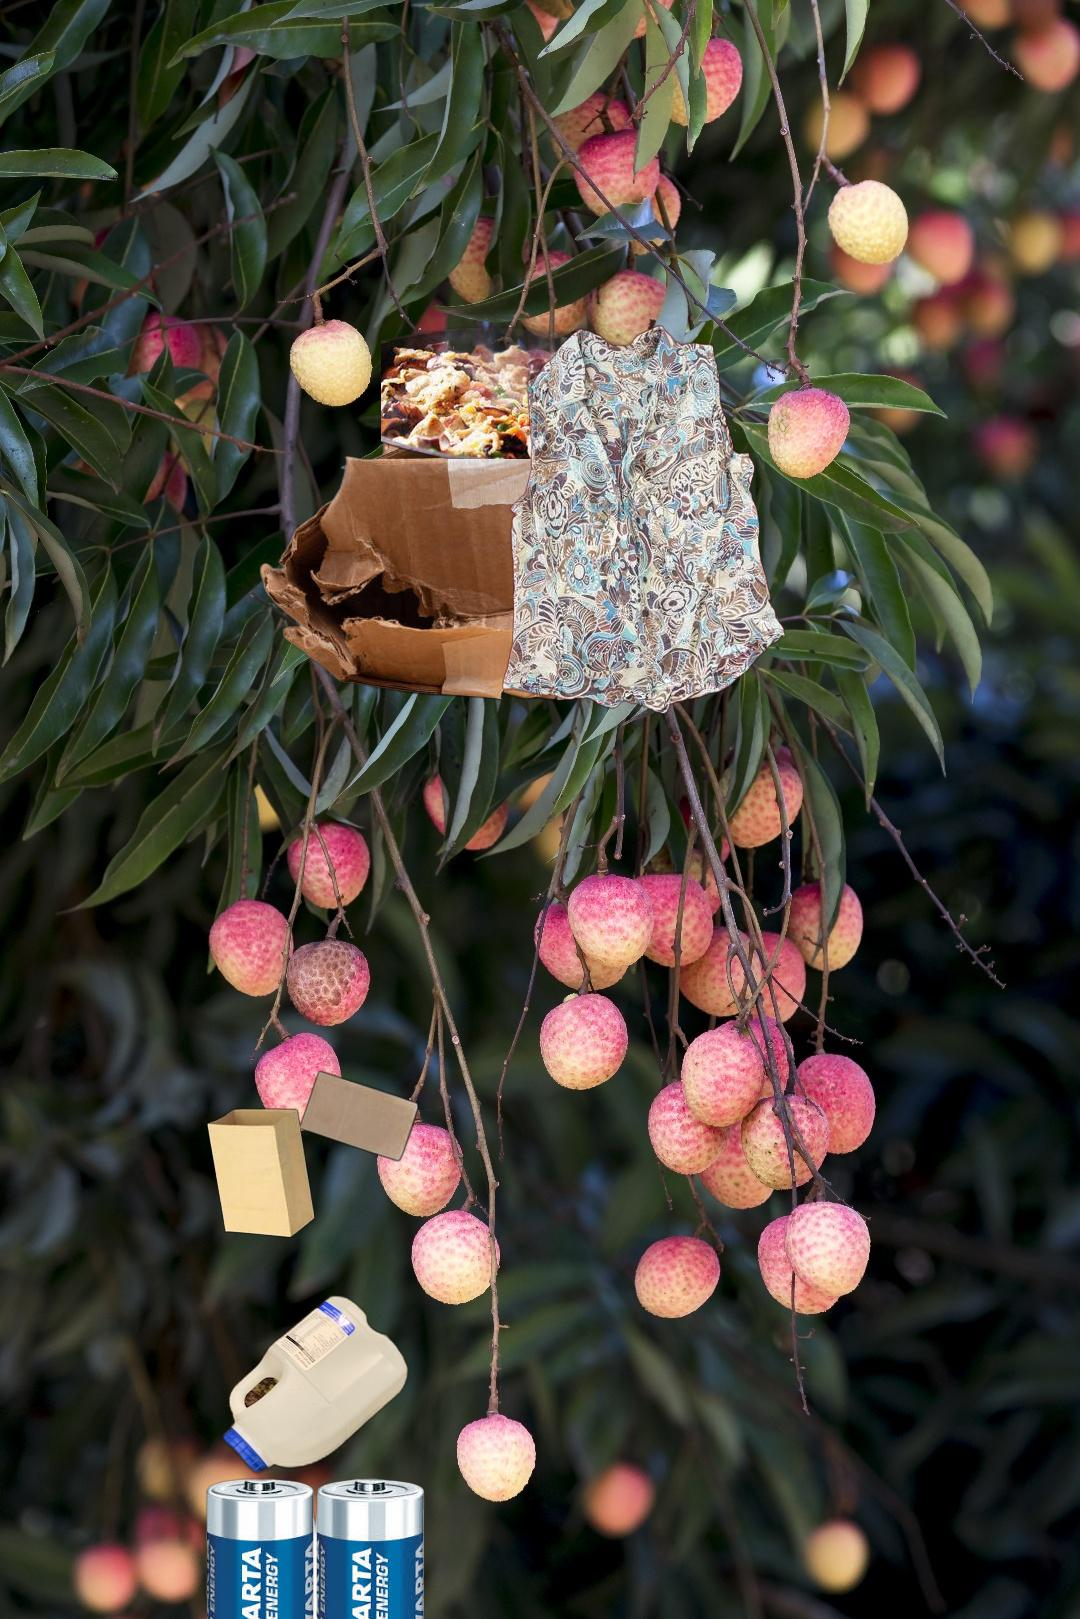battery: (202, 1478, 427, 1619)
biological: (381, 300, 663, 459)
clothes: (499, 319, 787, 718)
paper-bag: (204, 1068, 422, 1239)
plastic-bottles: (218, 1289, 447, 1590)
trashbox-cardboard: (254, 389, 691, 706), (290, 533, 611, 884)
